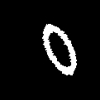chain: (42, 24, 76, 74)
